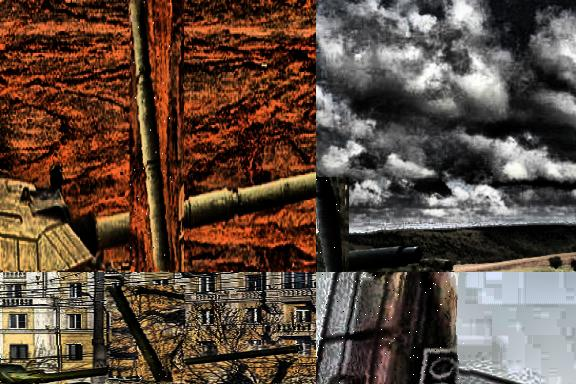tanks: (317, 273, 462, 384), (131, 2, 173, 270), (108, 287, 168, 383), (317, 178, 344, 273), (182, 188, 186, 273)
